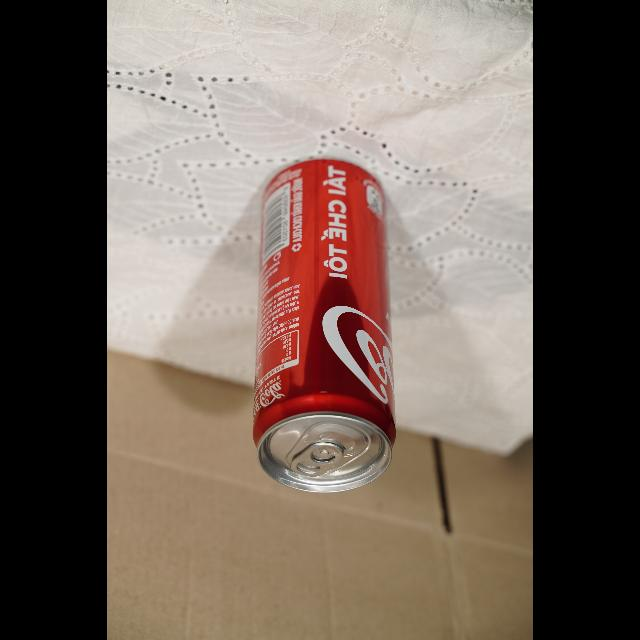coca_cola: (251, 158, 397, 494)
